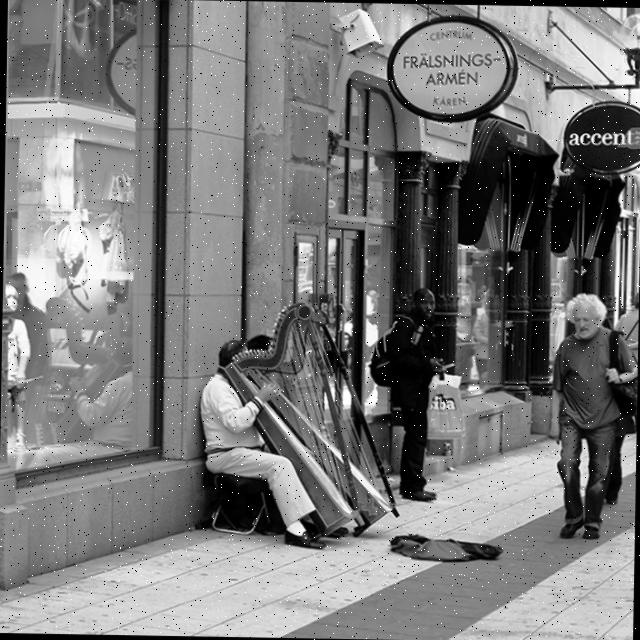harp: (214, 296, 407, 540)
